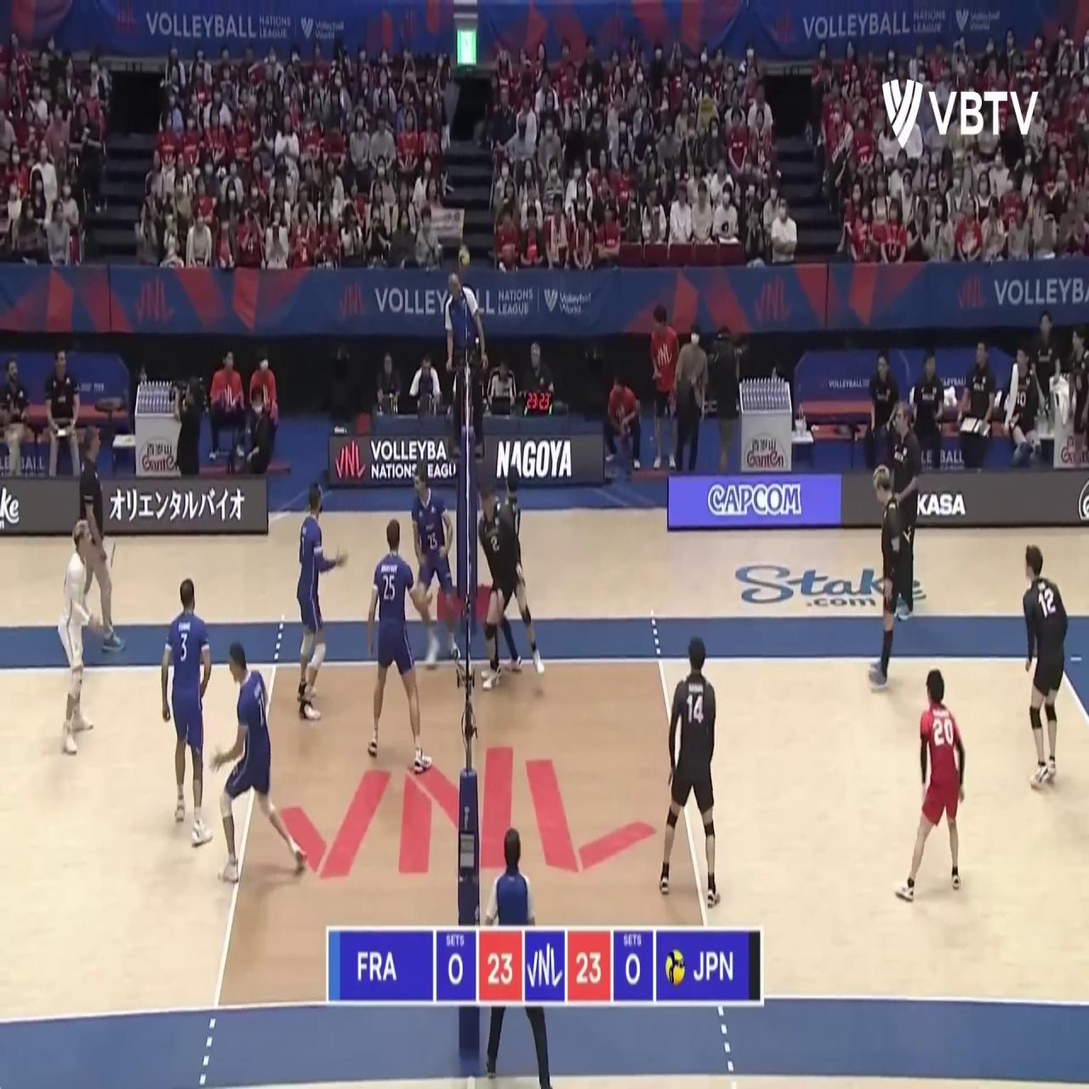ball: (457, 245, 471, 273)
